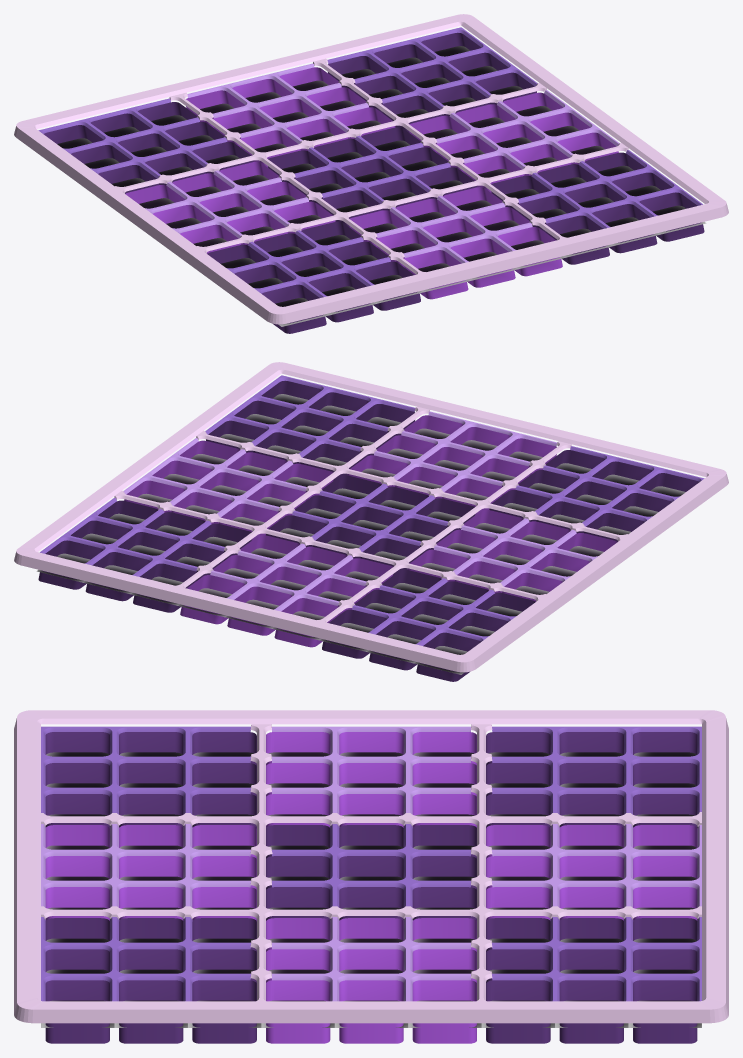
File: cubes.fbx
3 views of the same model, one above another, from view 1: azimuth 30°, elevation 25°; view 2: azimuth 150°, elevation 25°; view 3: azimuth 270°, elevation 25° (orthographic). The views are drawn at different scales.
Visible parts, largest first — view 1: Plane, Plane.083, Plane.001, Plane.082; view 2: Plane, Plane.083, Plane.001, Plane.082; view 3: Plane, Plane.083, Plane.001, Plane.082.
Part boxes in pixels (x1,y1,x2,y2): Plane: [38, 27, 704, 333]; Plane.083: [14, 14, 728, 324]; Plane.001: [115, 58, 628, 274]; Plane.082: [34, 21, 708, 203]; Plane: [38, 375, 704, 681]; Plane.083: [14, 362, 728, 672]; Plane.001: [114, 406, 627, 622]; Plane.082: [34, 369, 708, 551]; Plane: [41, 726, 701, 1043]; Plane.083: [14, 710, 728, 1023]; Plane.001: [41, 724, 701, 1001]; Plane.082: [36, 718, 706, 1000].
Bounding box in the file's own units: 19.48 × 1.3 × 19.48.
